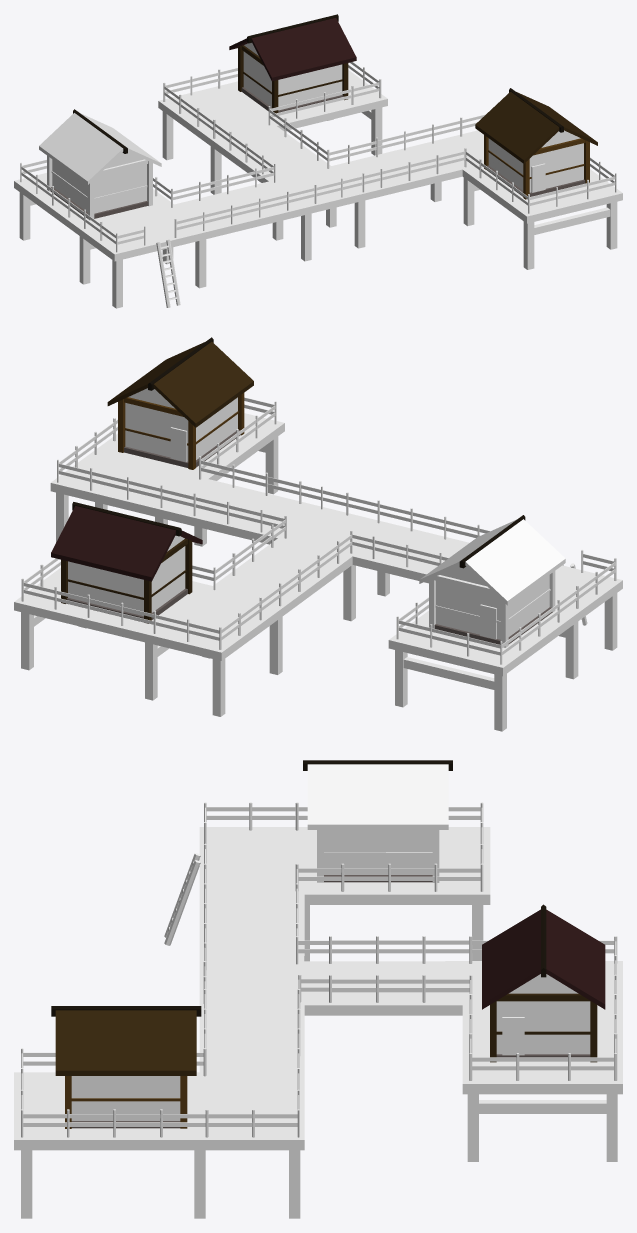
Rendered from QuarryHouses.fbx.
3 views of the same model, one above another, from view 1: azimuth 30°, elevation 25°; view 2: azimuth 150°, elevation 25°; view 3: azimuth 270°, elevation 25° (orthographic). The views are drawn at different scales.
Visible parts, largest first — view 1: QuarryHouses; view 2: QuarryHouses; view 3: QuarryHouses.
Boxes of the visible parts, left/top/right/bottom form: QuarryHouses: left=14, top=14, right=622, bottom=308; QuarryHouses: left=14, top=337, right=622, bottom=731; QuarryHouses: left=14, top=760, right=622, bottom=1218.
Size of the model in its own units: 28.99 by 7.84 by 23.83.
